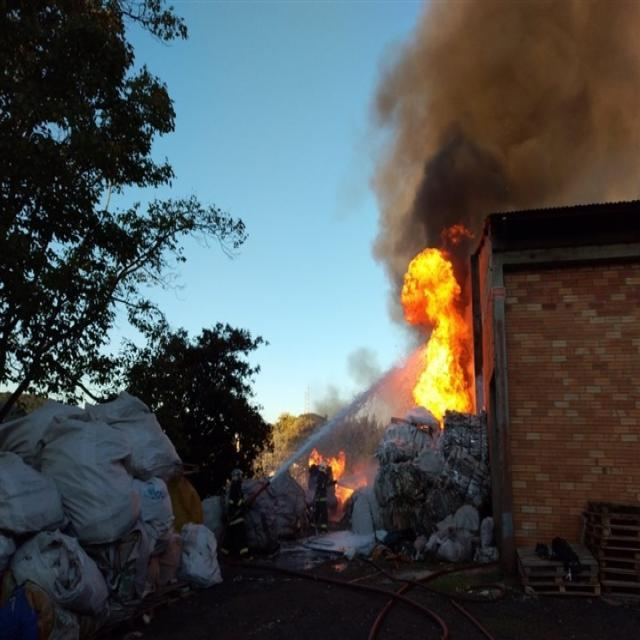Fire: (398, 220, 478, 430), (308, 447, 368, 502)
Smoke: (313, 1, 640, 494)
